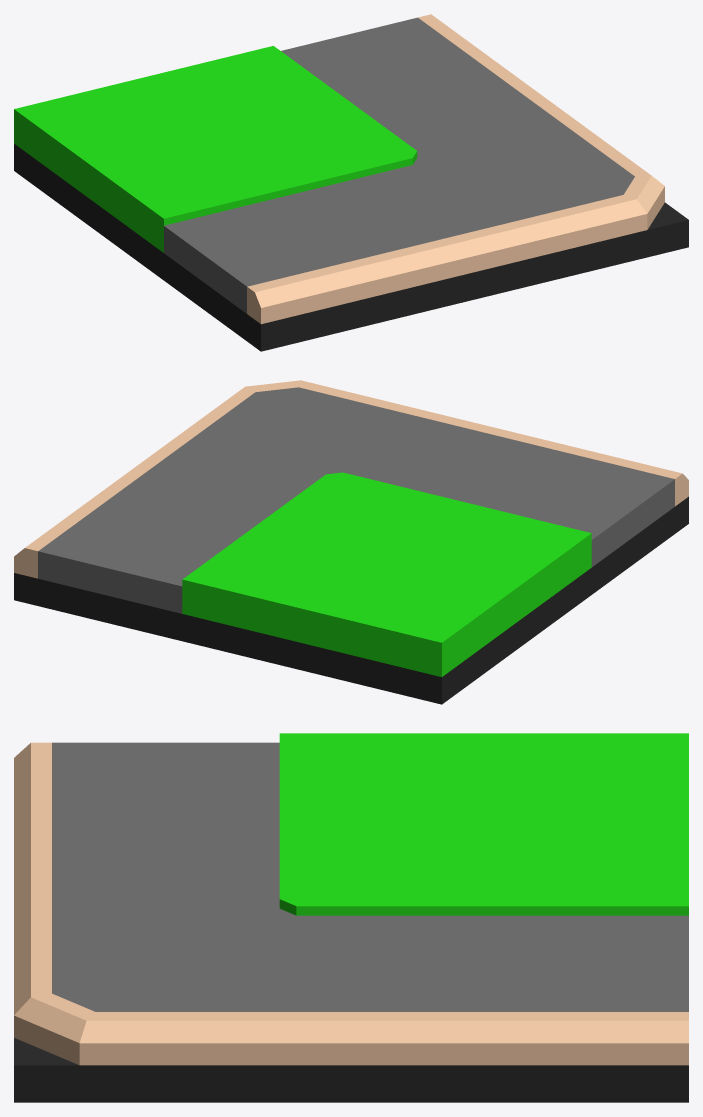
The model's file is SideWalk_02.FBX.
3 views of the same model, one above another, from view 1: azimuth 30°, elevation 25°; view 2: azimuth 150°, elevation 25°; view 3: azimuth 270°, elevation 25° (orthographic). The views are drawn at different scales.
Visible parts, largest first — view 1: SideWalk_02; view 2: SideWalk_02; view 3: SideWalk_02.
Part boxes in pixels (x1=…): SideWalk_02: x1=14, y1=14, x2=688, y2=351; SideWalk_02: x1=14, y1=380, x2=688, y2=704; SideWalk_02: x1=14, y1=733, x2=688, y2=1102.
Size of the model in its own units: 10 by 1.38 by 10.
